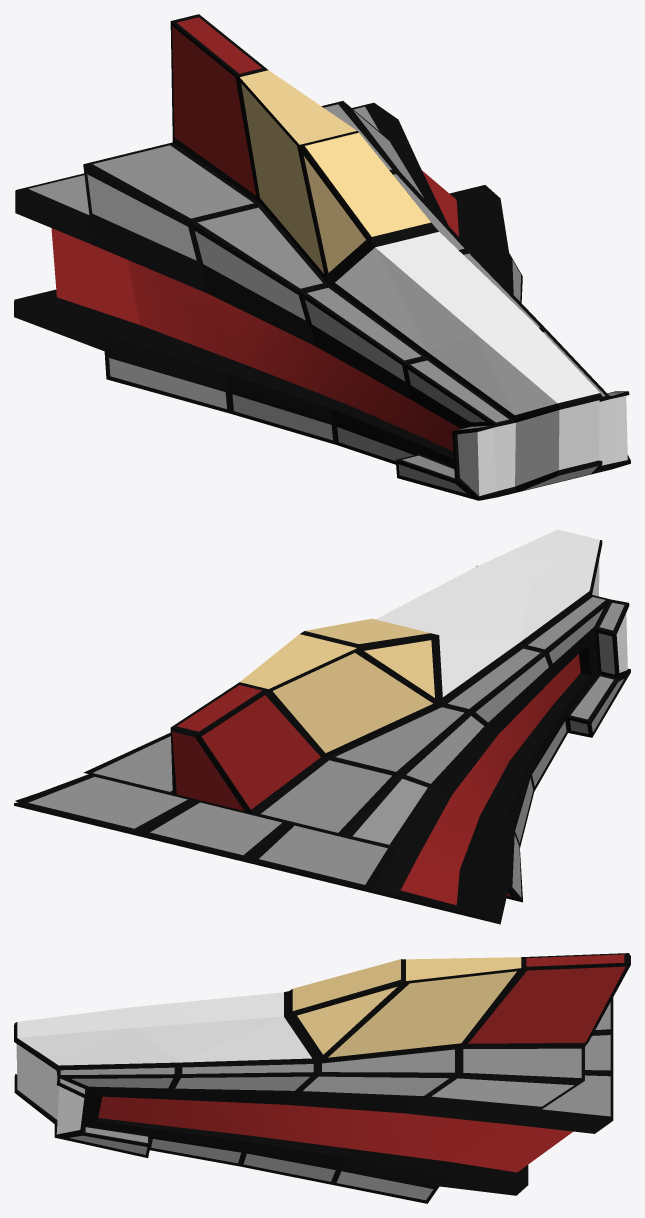
File: Ship ai 1.FBX
3 views of the same model, one above another, from view 1: azimuth 30°, elevation 25°; view 2: azimuth 150°, elevation 25°; view 3: azimuth 270°, elevation 25° (orthographic). The views are drawn at different scales.
Visible parts, largest first — view 1: Box008; view 2: Box008; view 3: Box008.
Boxes of the visible parts, bbox=[...] form: Box008: bbox=[14, 14, 630, 500]; Box008: bbox=[14, 529, 630, 924]; Box008: bbox=[14, 953, 630, 1203].
Size of the model in its own units: 48.41 by 21.06 by 68.5.
